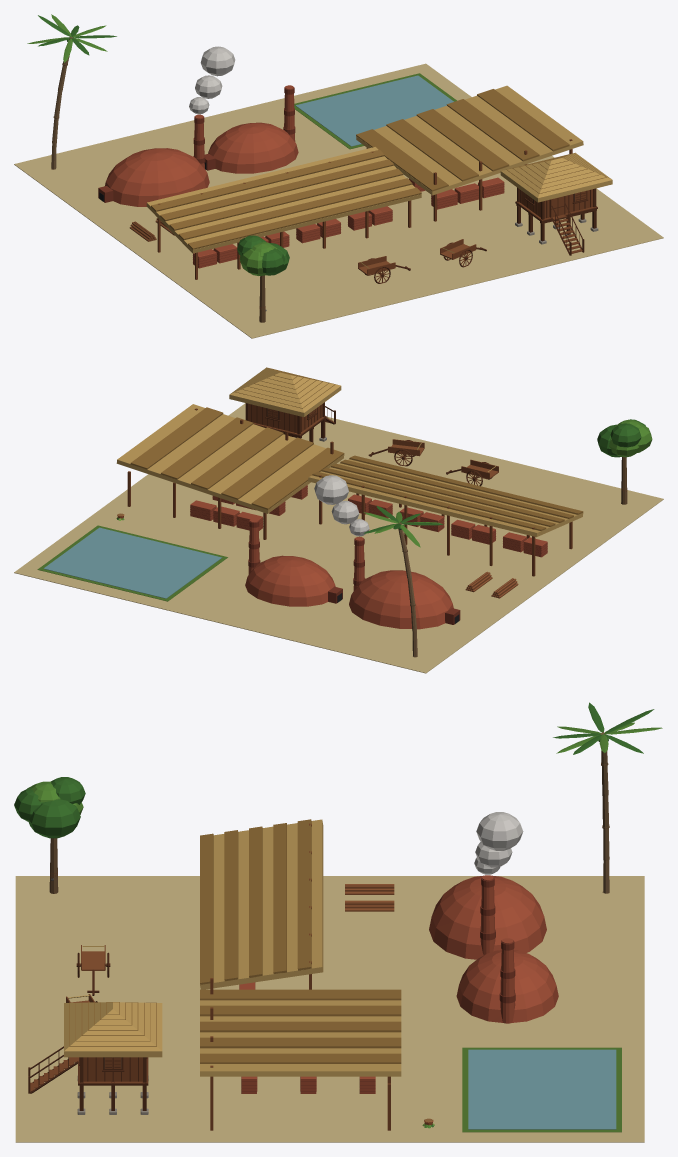
Rendered from factory_4.glb.
3 renders of one model, top to bottom at view 1: azimuth 30°, elevation 25°; view 2: azimuth 150°, elevation 25°; view 3: azimuth 270°, elevation 25°, orthographic. The views are drawn at different scales.
Visible parts, largest first — view 1: body; view 2: body; view 3: body.
Part boxes in pixels (x1,y1,x2,y2): body: (14, 14, 663, 338); body: (14, 367, 663, 673); body: (14, 702, 662, 1142).
Size of the model in its own units: 31.9 by 10.69 by 32.95.
